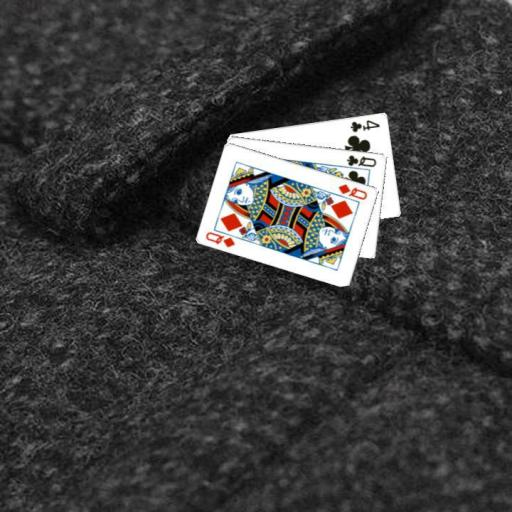4C: (347, 117, 382, 133)
QC: (344, 151, 378, 168)
QD: (203, 228, 237, 249), (335, 181, 369, 201)
